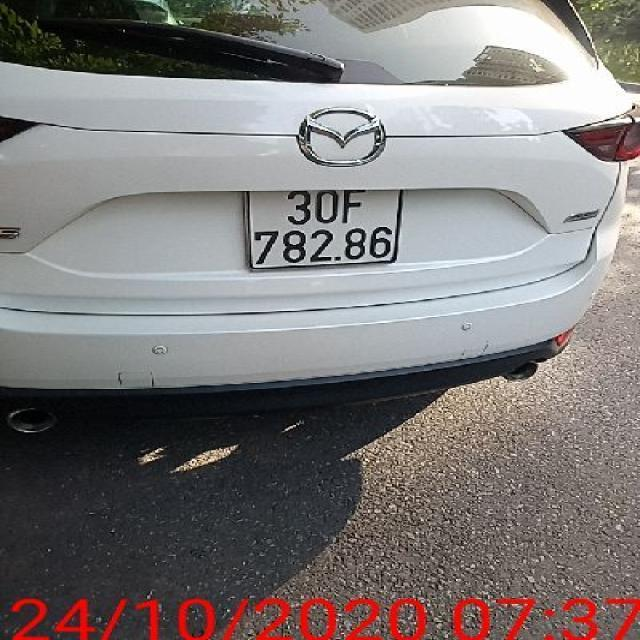bien_so_oto: (242, 187, 406, 272)
